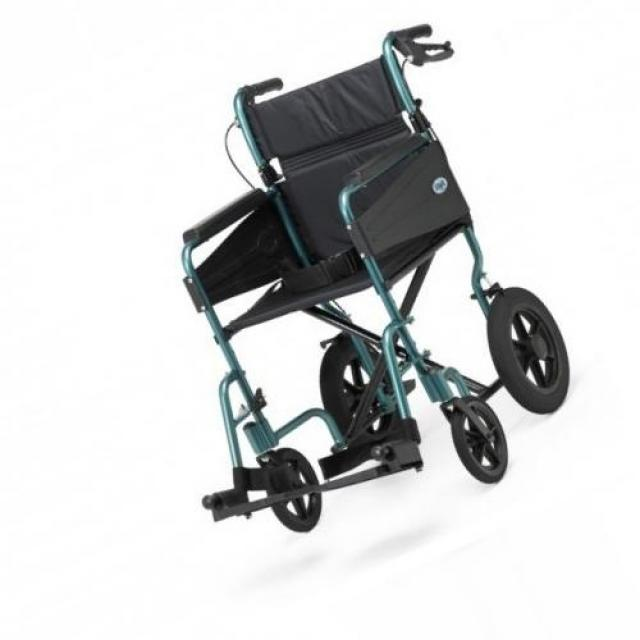wheelchair: (154, 18, 586, 548)
